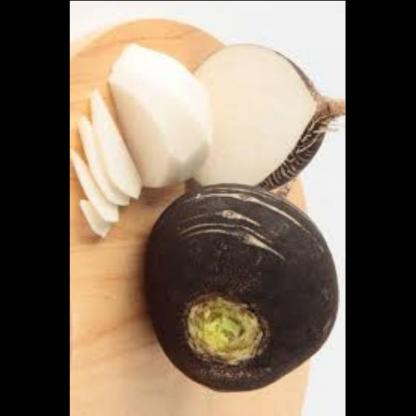redka: (144, 185, 343, 391), (186, 39, 338, 192), (109, 37, 214, 187), (73, 83, 149, 236)
